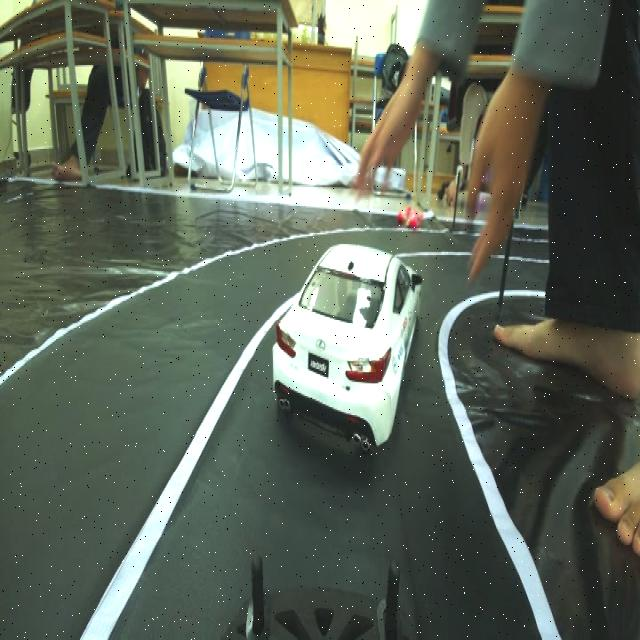car: (264, 206, 427, 483)
